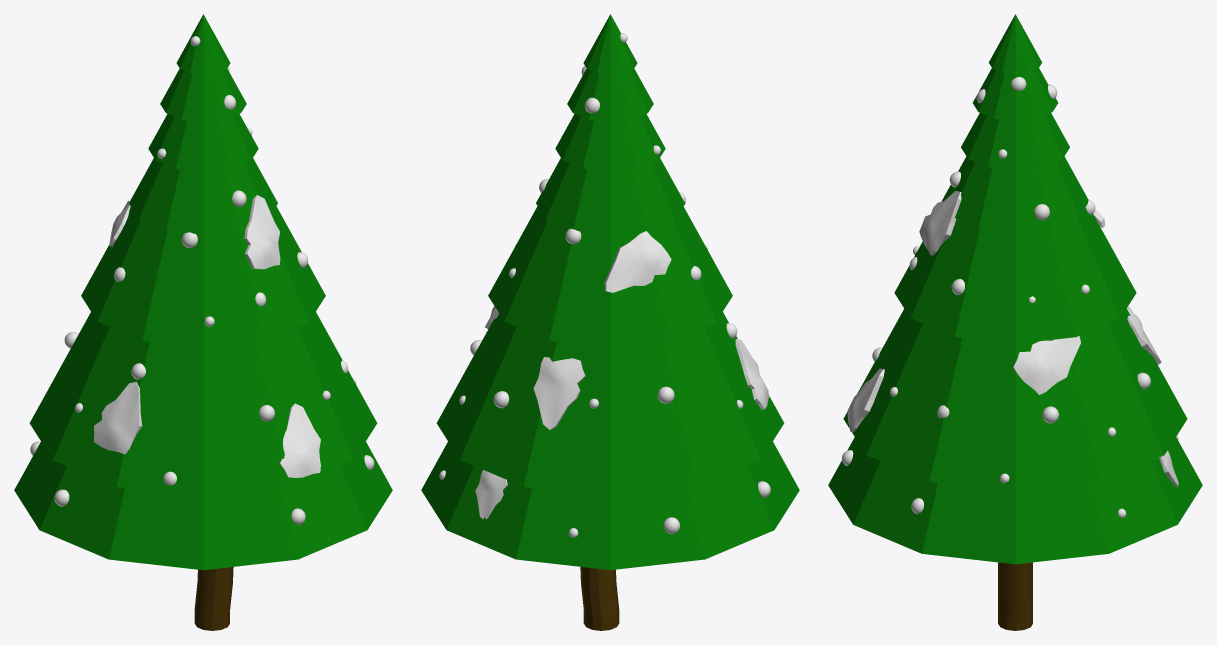
The model's file is Pino_NIeve.fbx.
3 views of the same model, side by side, from view 1: azimuth 30°, elevation 25°; view 2: azimuth 150°, elevation 25°; view 3: azimuth 270°, elevation 25° (orthographic).
Parts seen in each view (by area): view 1: pCone6, pCone7, pCone5, pCone4, pCone3, pCone2, pPlane4, pPlane6, pCylinder1, pPlane5, pCone1; view 2: pCone6, pCone7, pCone5, pCone4, pCone3, pCone2, pPlane2, pPlane3, pCylinder1, pCone1, pPlane1, pPlane4; view 3: pCone6, pCone7, pCone5, pCone4, pCone3, pCone2, pPlane7, pCylinder1, pCone1, pPlane5, pPlane6, pPlane3.
Part boxes in pixels (x1,y1,x2,y2): pCone6: [29, 312, 377, 496]; pCone7: [14, 441, 392, 570]; pCone5: [81, 206, 325, 347]; pCone4: [129, 158, 277, 234]; pCone3: [148, 114, 258, 171]; pCone2: [160, 68, 246, 122]; pPlane4: [94, 381, 142, 454]; pPlane6: [279, 403, 320, 477]; pCylinder1: [194, 567, 233, 630]; pPlane5: [244, 195, 280, 269]; pCone1: [176, 14, 230, 74]; pCone6: [436, 312, 784, 496]; pCone7: [421, 441, 799, 570]; pCone5: [488, 206, 732, 347]; pCone4: [536, 158, 684, 234]; pCone3: [555, 114, 665, 171]; pCone2: [567, 68, 653, 122]; pPlane2: [604, 231, 671, 292]; pPlane3: [533, 357, 585, 430]; pCylinder1: [580, 567, 619, 630]; pCone1: [583, 14, 637, 74]; pPlane1: [475, 470, 507, 519]; pPlane4: [735, 339, 769, 410]; pCone6: [843, 309, 1187, 491]; pCone7: [828, 437, 1202, 564]; pCone5: [894, 207, 1136, 343]; pCone4: [941, 156, 1088, 232]; pCone3: [961, 113, 1069, 170]; pCone2: [972, 68, 1058, 120]; pPlane7: [1013, 336, 1080, 394]; pCylinder1: [998, 562, 1032, 630]; pCone1: [989, 14, 1041, 73]; pPlane5: [919, 191, 961, 255]; pPlane6: [847, 368, 884, 432]; pPlane3: [1127, 306, 1161, 364].
Size of the model in its own units: 13.98 by 24.92 by 13.98.
